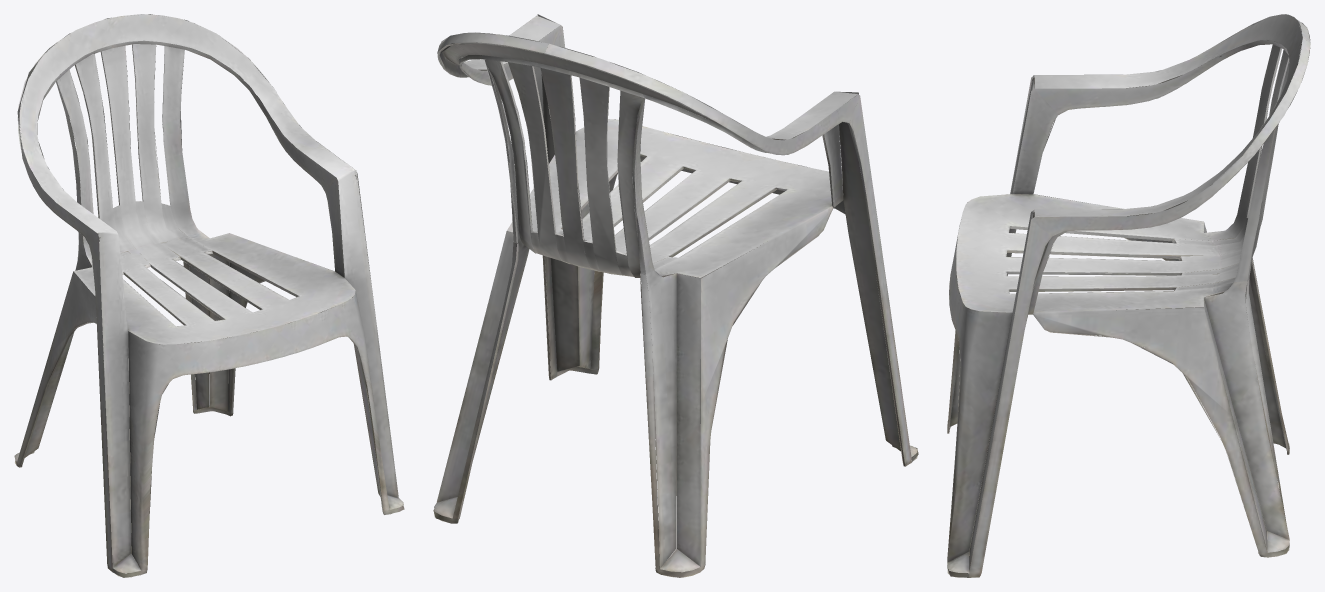
Rendered from ph_plastic_monobloc_chair_01.glb.
3 views of the same model, side by side, from view 1: azimuth 30°, elevation 25°; view 2: azimuth 150°, elevation 25°; view 3: azimuth 270°, elevation 25° (orthographic). The views are drawn at different scales.
Parts seen in each view (by area): view 1: plastic_monobloc_chair_01; view 2: plastic_monobloc_chair_01; view 3: plastic_monobloc_chair_01.
Boxes of the visible parts, x1,y1,x2,y2 form: plastic_monobloc_chair_01: (14, 14, 404, 577); plastic_monobloc_chair_01: (433, 14, 918, 577); plastic_monobloc_chair_01: (947, 14, 1310, 577).
Size of the model in its own units: 0.6455 by 0.8806 by 0.6282.
Materials: 1 (1 with a texture image).
